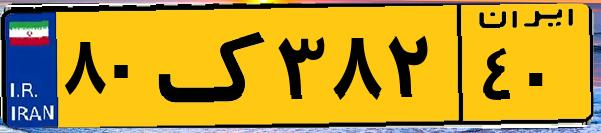0: (525, 38, 570, 115), (110, 28, 158, 98)
2: (385, 28, 445, 110)
3: (270, 28, 330, 110)
4: (475, 38, 525, 113)
8: (330, 28, 385, 110), (57, 26, 110, 100)
ک: (158, 12, 270, 120)
